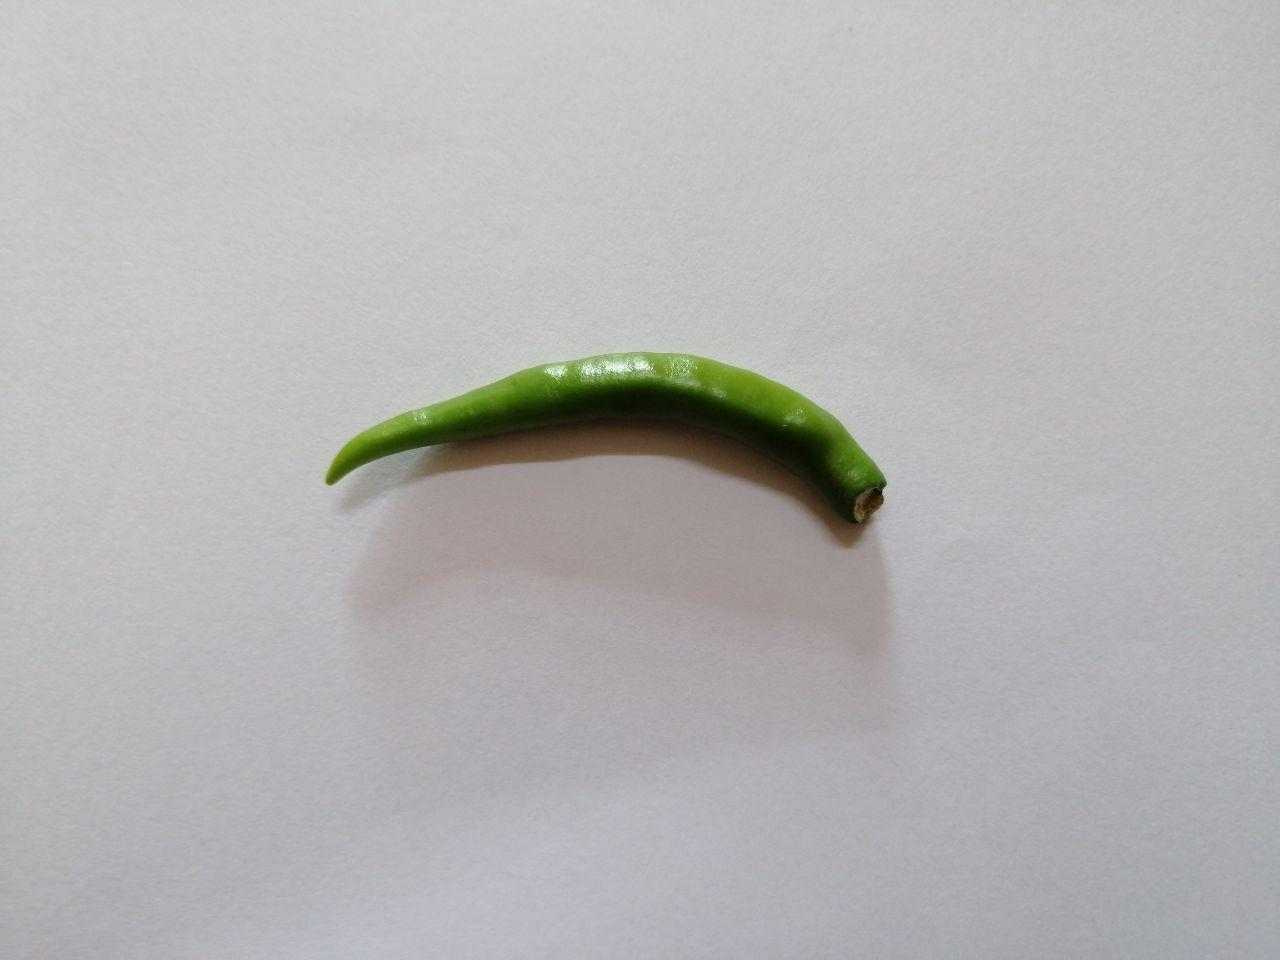lada hijau: (312, 333, 916, 583)
